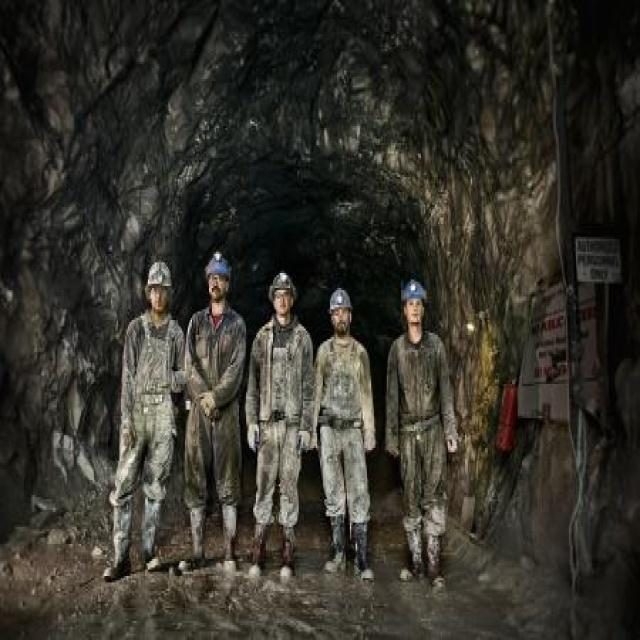helmet: (143, 341, 176, 424), (400, 364, 431, 449), (268, 366, 301, 434), (324, 379, 354, 449), (204, 336, 232, 407)
